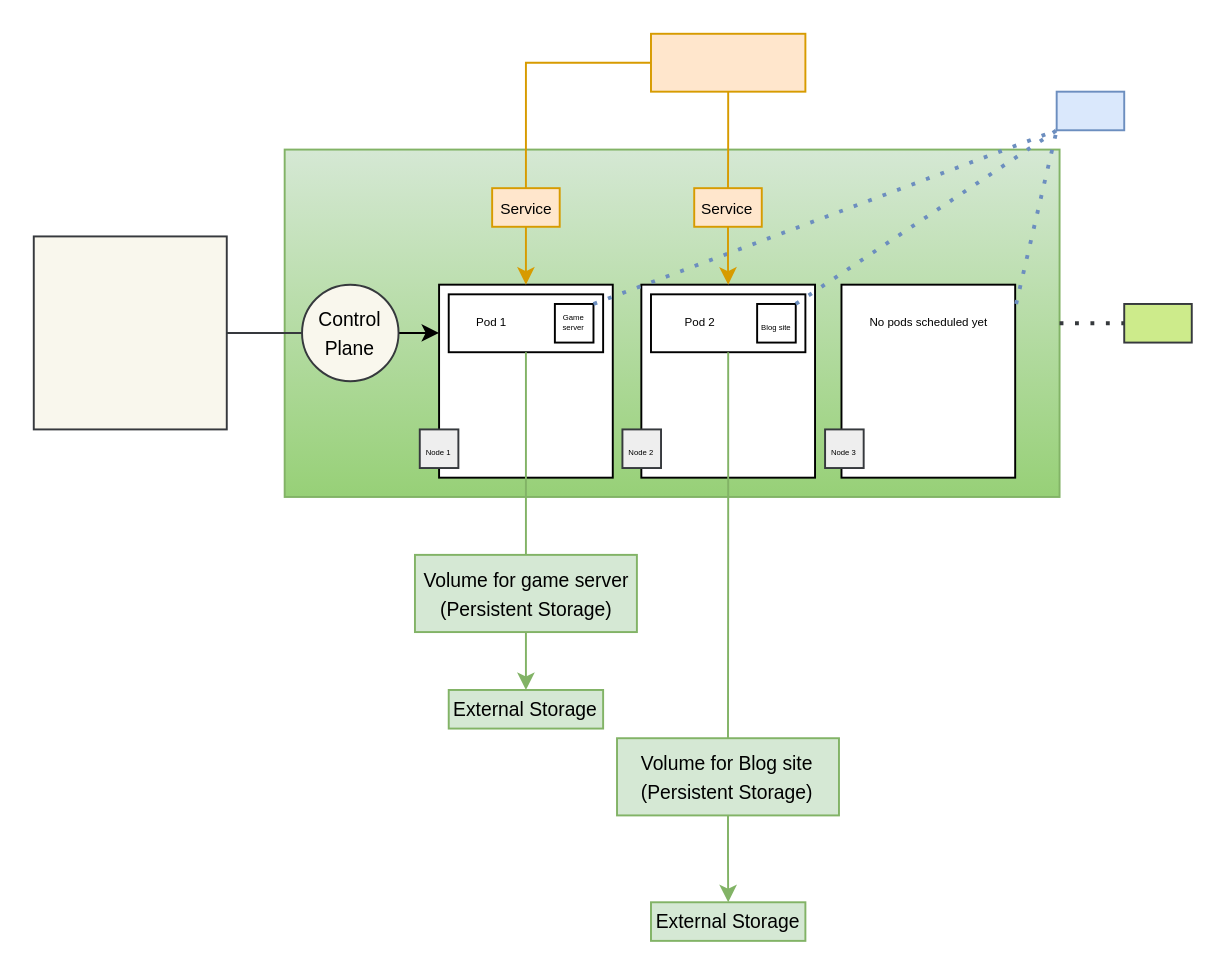
This 1226x975 diagram has some shape labels left out. The shapes that lost their labels are listed below. From the top down, each one's centre as x and y in pixels, then its label:
At (727,62): "HTTP request".
At (1089,110): "Containers".
At (129,331): "Kubectl + Config Local Machine".
At (1157,322): "Cluster".
